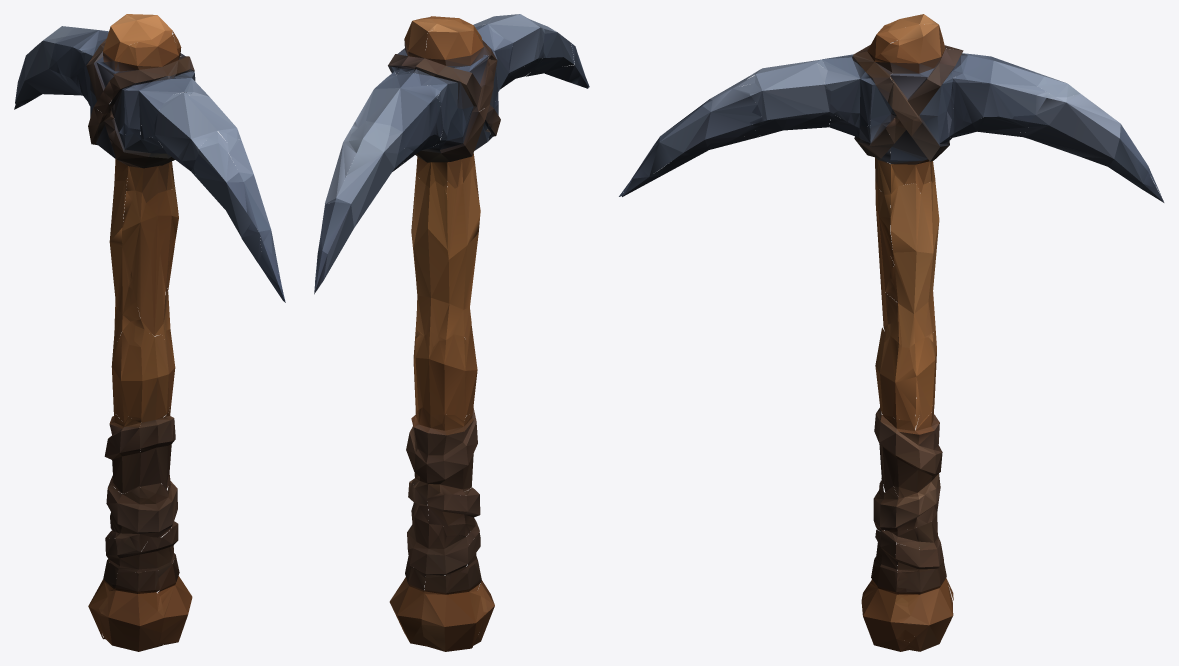
Rendered from ironPickaxe.glb.
3 views of the same model, side by side, from view 1: azimuth 30°, elevation 25°; view 2: azimuth 150°, elevation 25°; view 3: azimuth 270°, elevation 25° (orthographic).
Parts seen in each view (by area): view 1: 0_ironPickaxe; view 2: 0_ironPickaxe; view 3: 0_ironPickaxe.
Part boxes in pixels (x1,y1,x2,y2): 0_ironPickaxe: [14, 14, 285, 651]; 0_ironPickaxe: [314, 14, 589, 651]; 0_ironPickaxe: [619, 14, 1164, 651].
Bounding box in the file's own units: 0.0912 × 0.6201 × 0.5017.
